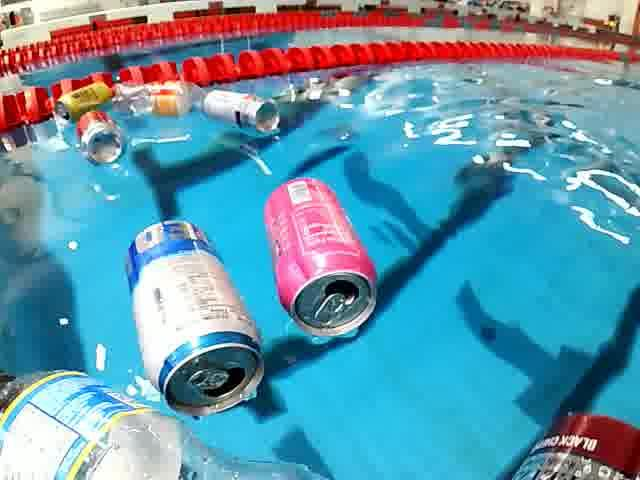Bottle: (1, 346, 340, 480), (108, 78, 214, 122)
Can: (117, 214, 271, 428), (260, 174, 384, 342), (494, 401, 640, 480), (194, 86, 284, 138), (46, 78, 116, 128), (71, 108, 127, 168)
